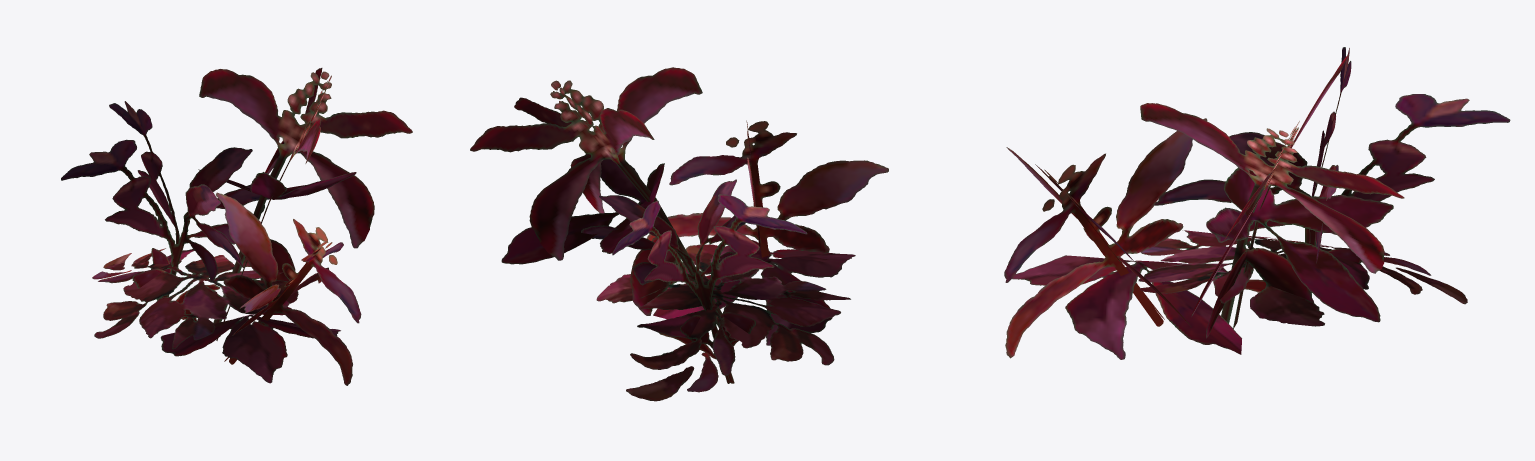
File: sc_gg_grass04_2_um.fbx
The picture shows the model from 3 angles, left to right: view 1: azimuth 30°, elevation 25°; view 2: azimuth 150°, elevation 25°; view 3: azimuth 270°, elevation 25°; orthographic projection. The views are drawn at different scales.
Parts seen in each view (by area): view 1: gg_grass04_2; view 2: gg_grass04_2; view 3: gg_grass04_2.
Boxes of the visible parts, x1=… form: gg_grass04_2: x1=61, y1=68, x2=412, y2=385; gg_grass04_2: x1=470, y1=67, x2=888, y2=401; gg_grass04_2: x1=1004, y1=47, x2=1510, y2=359.
Size of the model in its own units: 69.48 by 63.34 by 74.57.
